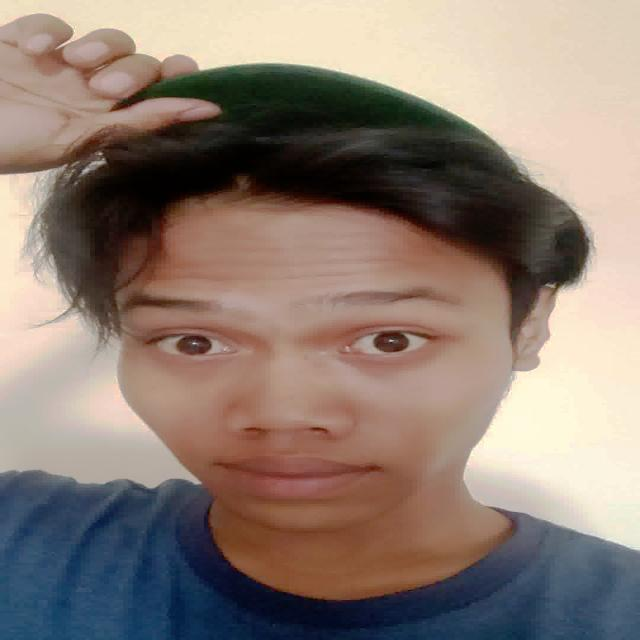TOPI: (105, 58, 542, 146)
